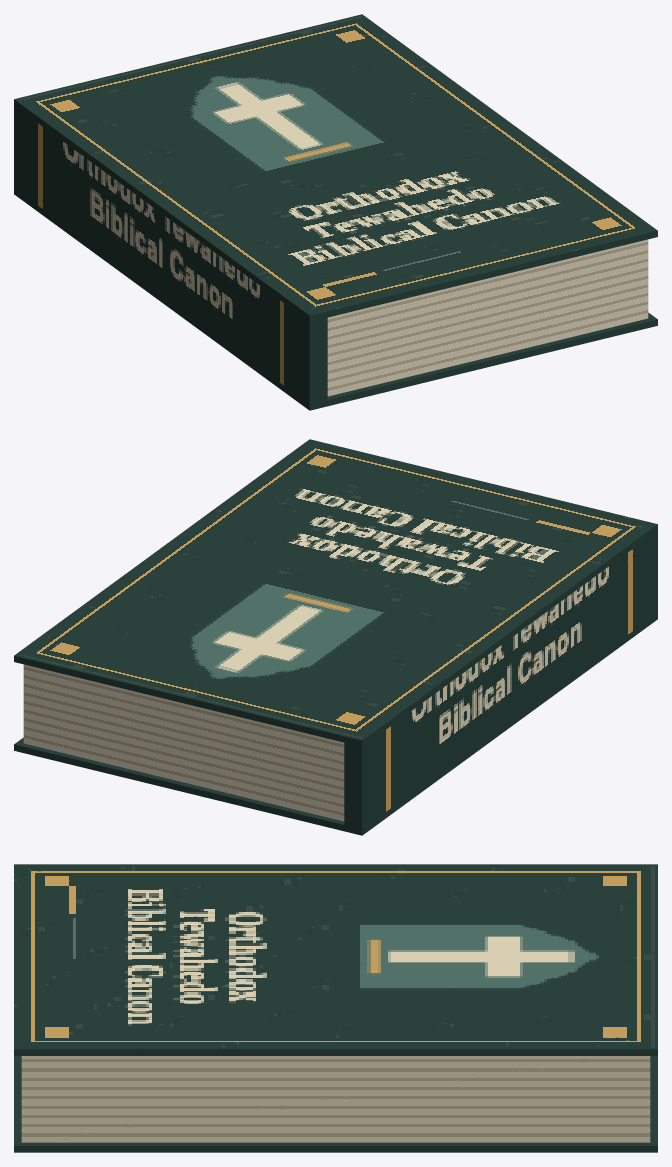
The model's file is holybook_bible8.glb.
The picture shows the model from 3 angles, top to bottom: view 1: azimuth 30°, elevation 25°; view 2: azimuth 150°, elevation 25°; view 3: azimuth 270°, elevation 25°; orthographic projection. The views are drawn at different scales.
Visible parts, largest first — view 1: block_front cover, block_spine, block_page block, block_back cover; view 2: block_front cover, block_spine, block_page block, block_back cover; view 3: block_front cover, block_page block, block_back cover.
Boxes of the visible parts, box(x1,y1,x2,y2) form: block_front cover: box(14, 14, 657, 321); block_spine: box(14, 106, 327, 404); block_page block: box(327, 239, 648, 396); block_back cover: box(14, 188, 657, 410); block_front cover: box(14, 439, 657, 746); block_spine: box(344, 531, 657, 829); block_page block: box(23, 664, 344, 821); block_back cover: box(14, 613, 657, 835); block_front cover: box(14, 864, 657, 1055); block_page block: box(21, 1056, 650, 1142); block_back cover: box(14, 1056, 657, 1152).
Bounding box in the file's own units: 0.1734 × 0.0452 × 0.255.
1 material, 1 textured.
